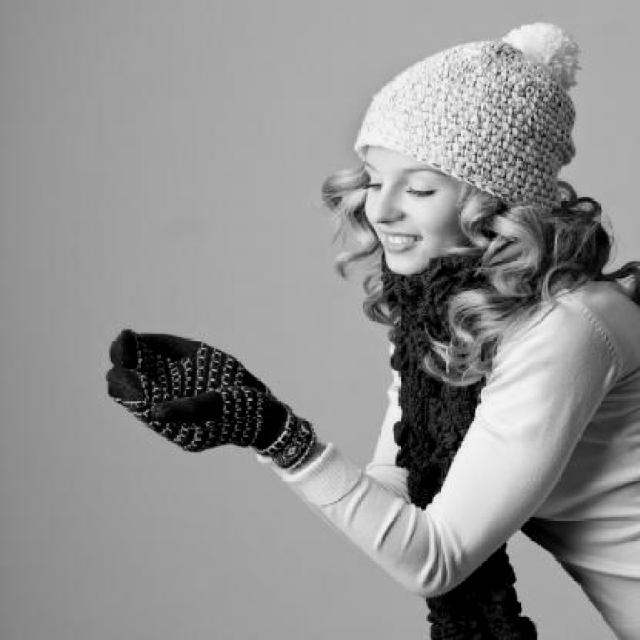face_nomask: (352, 155, 460, 277)
hand_glove: (109, 334, 263, 457)
head_nohelmet: (356, 21, 578, 172)
